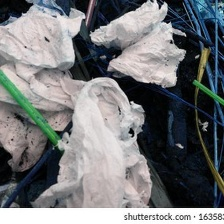tissue: (25, 71, 159, 207), (0, 55, 91, 175), (84, 0, 191, 92), (0, 0, 89, 73)
